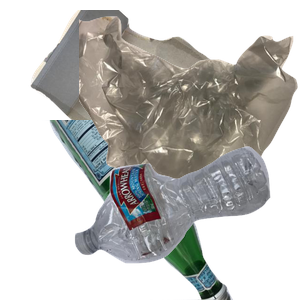glass: (37, 120, 262, 300)
paper: (28, 10, 268, 190)
plastic: (72, 144, 300, 300)
trash: (79, 14, 300, 194)
